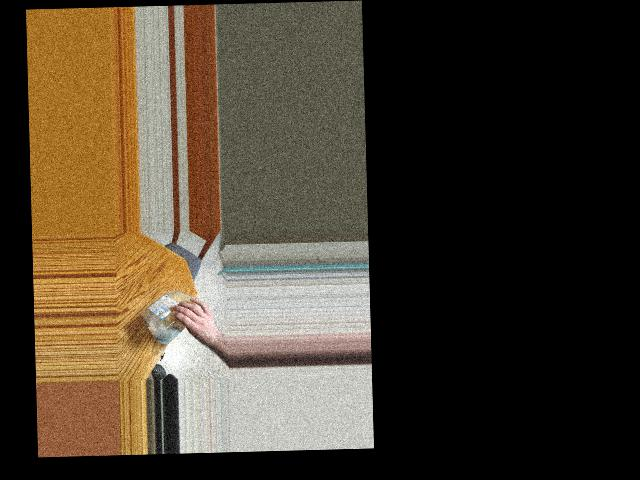cheese: (141, 289, 206, 342)
